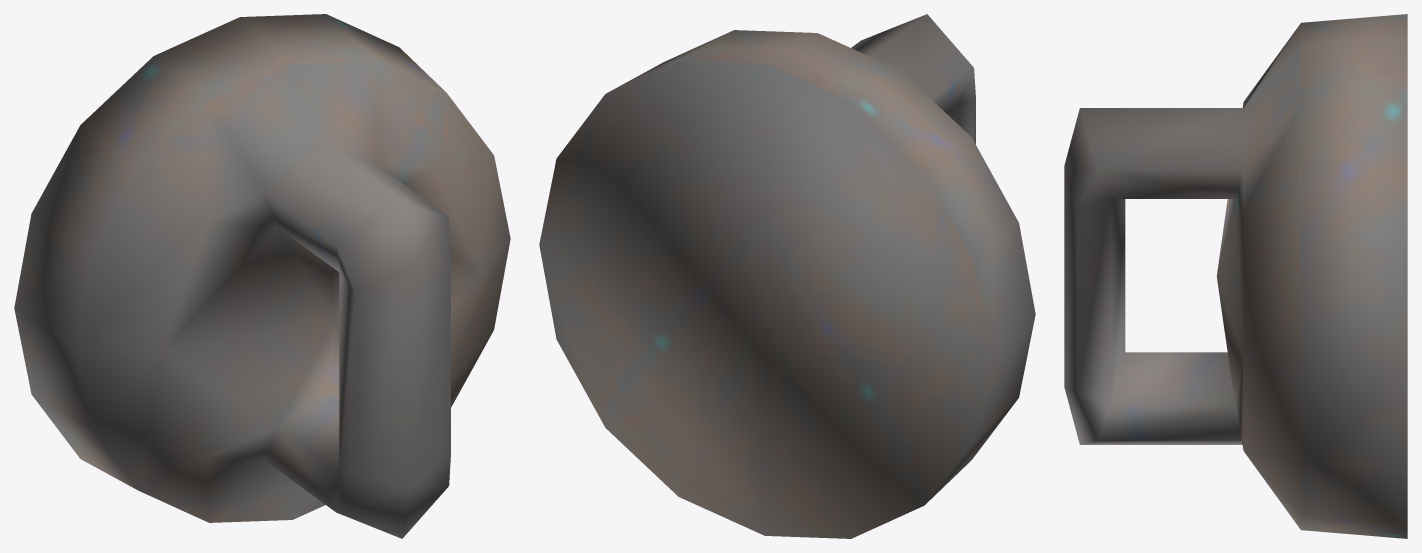
File: mag1_speedloader.obj
3 views of the same model, side by side, from view 1: azimuth 30°, elevation 25°; view 2: azimuth 150°, elevation 25°; view 3: azimuth 270°, elevation 25° (orthographic).
Visible parts, largest first — view 1: mag1.003; view 2: mag1.003; view 3: mag1.003.
Boxes of the visible parts, bbox=[...] form: mag1.003: bbox=[14, 14, 510, 538]; mag1.003: bbox=[539, 14, 1035, 538]; mag1.003: bbox=[1064, 14, 1407, 538].
Bounding box in the file's own units: 10 × 10 × 6.53.
